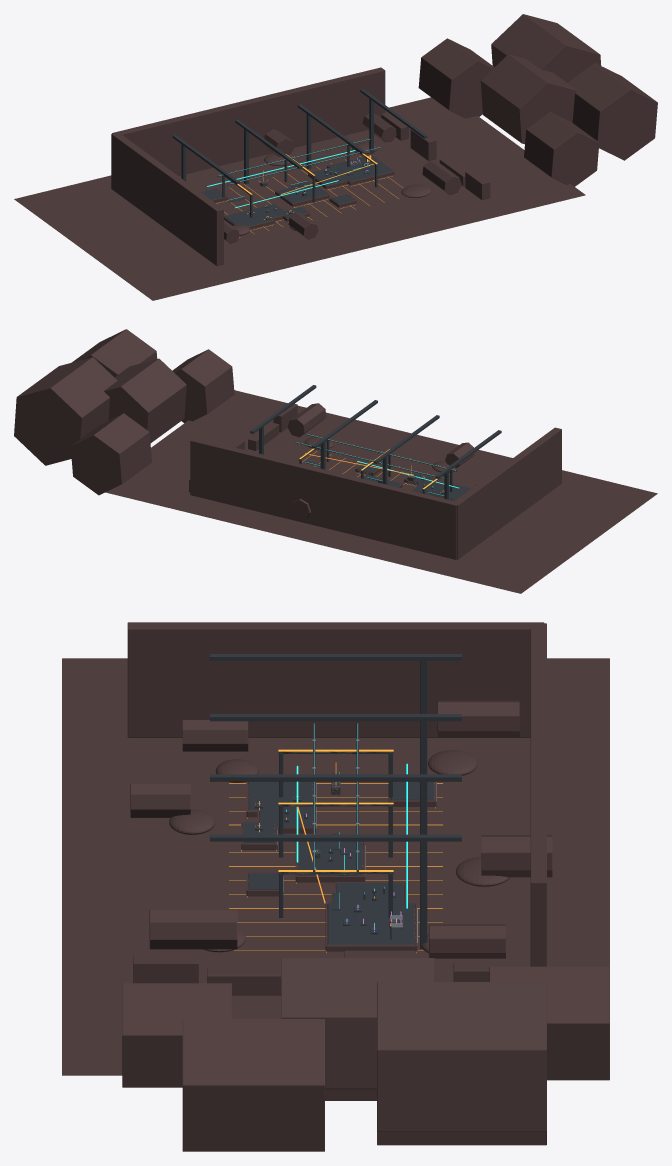
The model's file is resonance_master_scene.glb.
3 renders of one model, top to bottom at view 1: azimuth 30°, elevation 25°; view 2: azimuth 150°, elevation 25°; view 3: azimuth 270°, elevation 25°, orthographic. The views are drawn at different scales.
Visible parts, largest first — view 1: Canyon/LavaSea, Cave/BackWall, Cave/LeftWall, Vista/Ridge/4, Vista/Ridge/1, Vista/Ridge/3, Vista/Ridge/0, Vista/Ridge/2, Cave/Spire/3, CliffDeck/5/cap, Cave/CollapsedRim/1, Cave/CollapsedRim/3 (+6 smaller); view 2: Canyon/LavaSea, Cave/BackWall, Vista/Ridge/3, Cave/LeftWall, Vista/Ridge/0, Vista/Ridge/1, Vista/Ridge/2, Vista/Ridge/4, Cave/Spire/3, Cave/CollapsedRim/2; view 3: Canyon/LavaSea, Cave/LeftWall, Vista/Ridge/3, Vista/Ridge/4, Vista/Ridge/1, Vista/Ridge/0, Vista/Ridge/2, Cave/BackWall, Cave/Spire/3, Cave/Spire/0, Cave/Spire/2, CliffDeck/5/cap (+17 smaller).
Part boxes in pixels (box(x1,y1,x2,y2)): Canyon/LavaSea: box(14, 97, 585, 300); Cave/BackWall: box(112, 67, 385, 175); Cave/LeftWall: box(111, 133, 223, 265); Vista/Ridge/4: box(567, 63, 657, 160); Vista/Ridge/1: box(480, 54, 577, 144); Vista/Ridge/3: box(491, 14, 601, 82); Vista/Ridge/0: box(418, 38, 494, 118); Vista/Ridge/2: box(524, 112, 599, 186); Cave/Spire/3: box(422, 160, 461, 194); CliffDeck/5/cap: box(328, 155, 392, 181); Cave/CollapsedRim/1: box(410, 127, 436, 160); Cave/CollapsedRim/3: box(465, 170, 490, 200); Canyon/LavaSea: box(105, 390, 657, 593); Cave/BackWall: box(190, 438, 459, 559); Vista/Ridge/3: box(14, 357, 117, 465); Cave/LeftWall: box(451, 427, 561, 559); Vista/Ridge/0: box(70, 413, 151, 495); Vista/Ridge/1: box(104, 358, 186, 442); Vista/Ridge/2: box(172, 349, 234, 423); Vista/Ridge/4: box(72, 329, 157, 377); Cave/Spire/3: box(287, 403, 326, 437); Cave/CollapsedRim/2: box(248, 422, 279, 450); Canyon/LavaSea: box(62, 658, 609, 1075); Cave/LeftWall: box(127, 622, 543, 737); Vista/Ridge/3: box(377, 982, 546, 1145); Vista/Ridge/4: box(182, 1019, 324, 1151); Vista/Ridge/1: box(281, 958, 434, 1100); Vista/Ridge/0: box(489, 966, 609, 1080); Vista/Ridge/2: box(122, 983, 231, 1087); Cave/BackWall: box(530, 623, 546, 966); Cave/Spire/3: box(149, 910, 237, 949); Cave/Spire/0: box(437, 700, 519, 737); Cave/Spire/2: box(429, 924, 505, 958); CliffDeck/5/cap: box(328, 903, 414, 944).
Bounding box in the file's own units: 445 × 64.71 × 200.
Materials: 9 (1 with a texture image).
